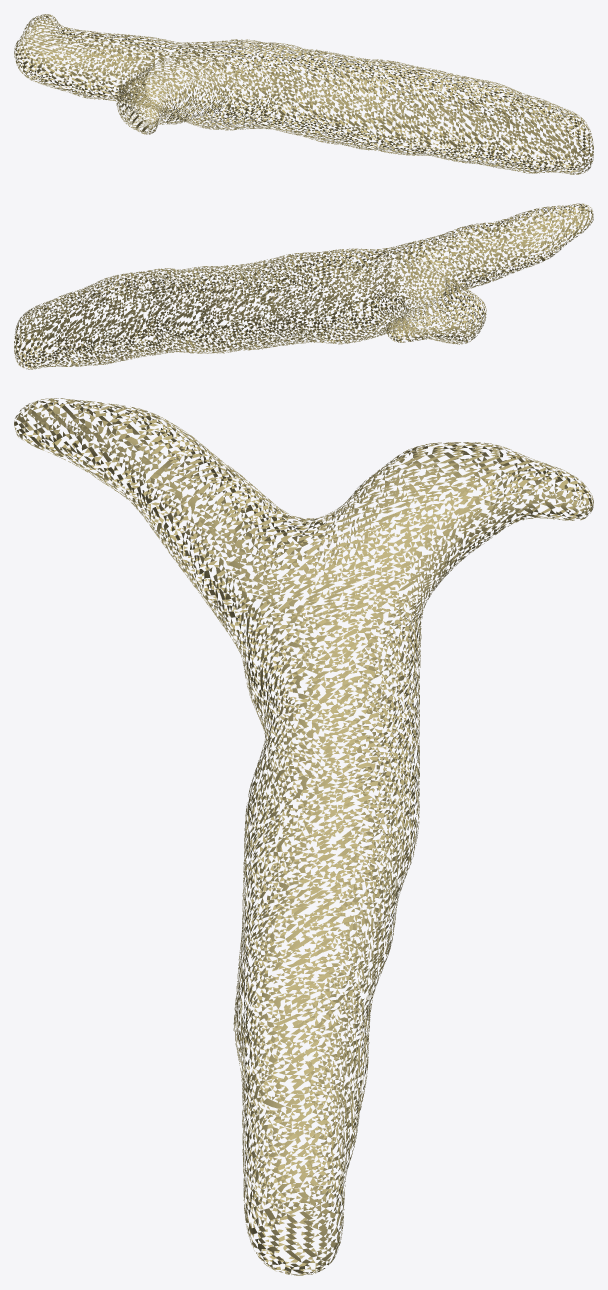
The model's file is morph_008.glb.
3 views of the same model, one above another, from view 1: azimuth 30°, elevation 25°; view 2: azimuth 150°, elevation 25°; view 3: azimuth 270°, elevation 25° (orthographic). The views are drawn at different scales.
Size of the model in its own units: 127 by 56.2 by 67.25.
